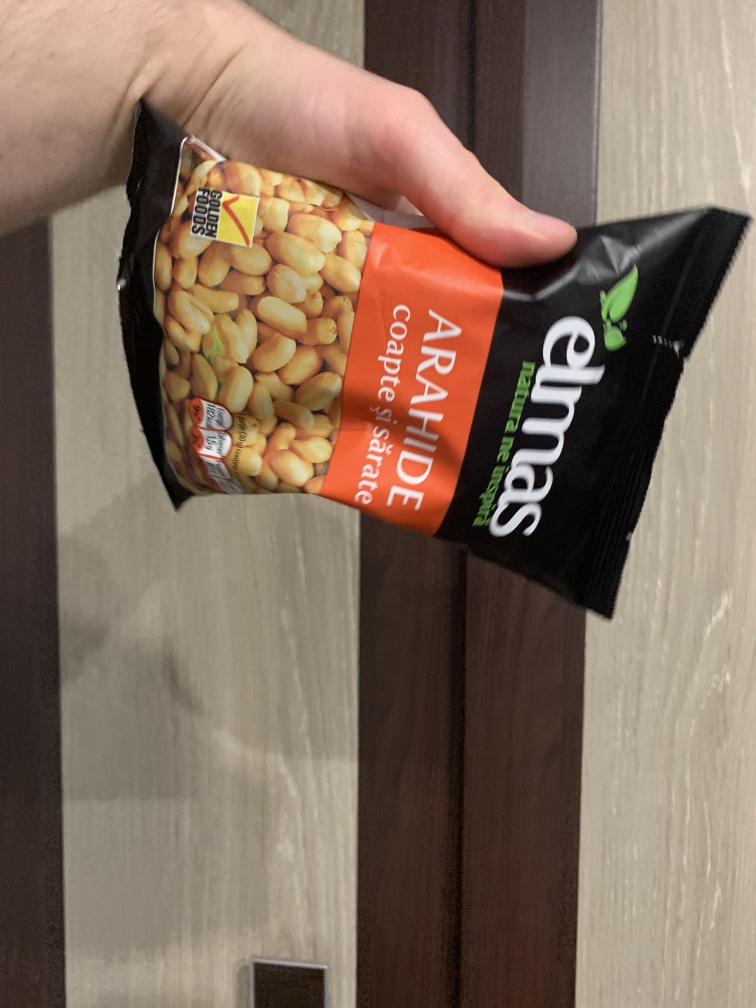peanuts: (97, 103, 756, 628)
